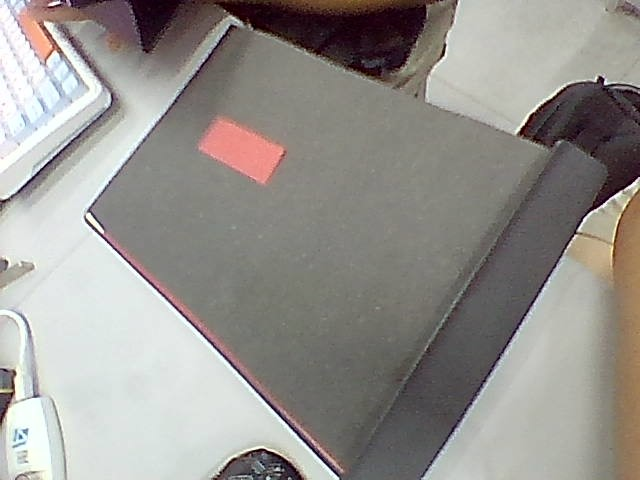card: (199, 117, 285, 184)
